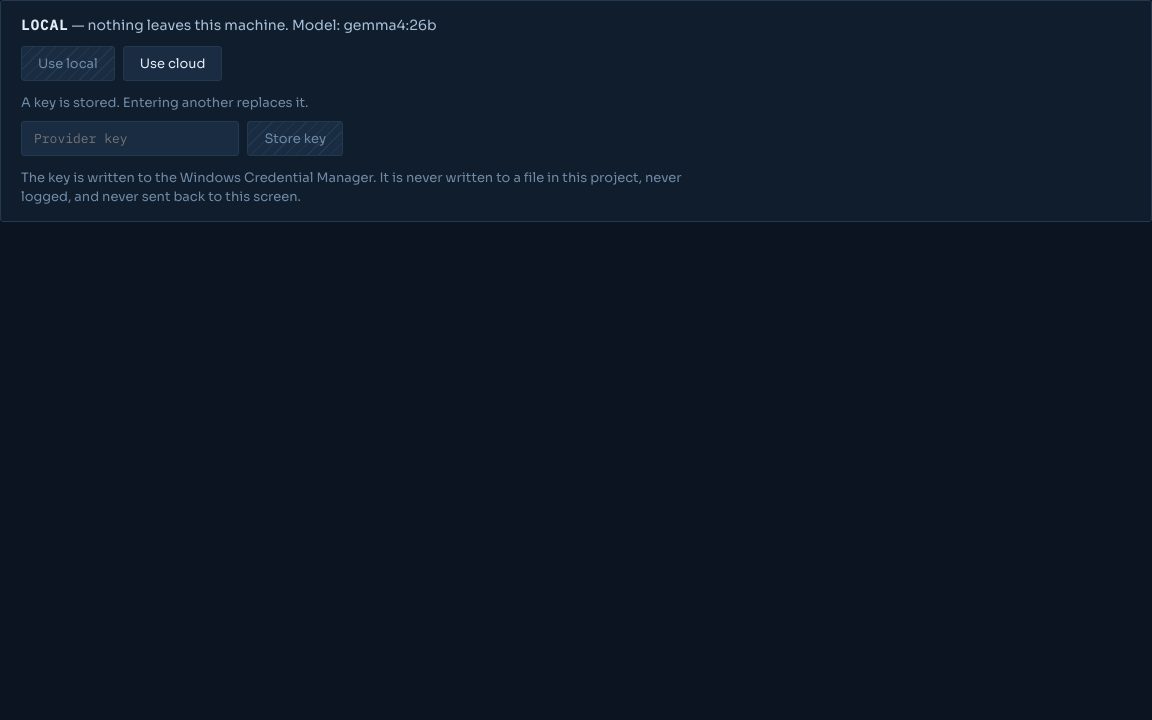
Test case: moving to cloud › says the vault is what leaves, not just 'data'
This screenshot has width=1152, height=720.
Click the button "Use cloud" at (173, 64), box [123,46,222,81]
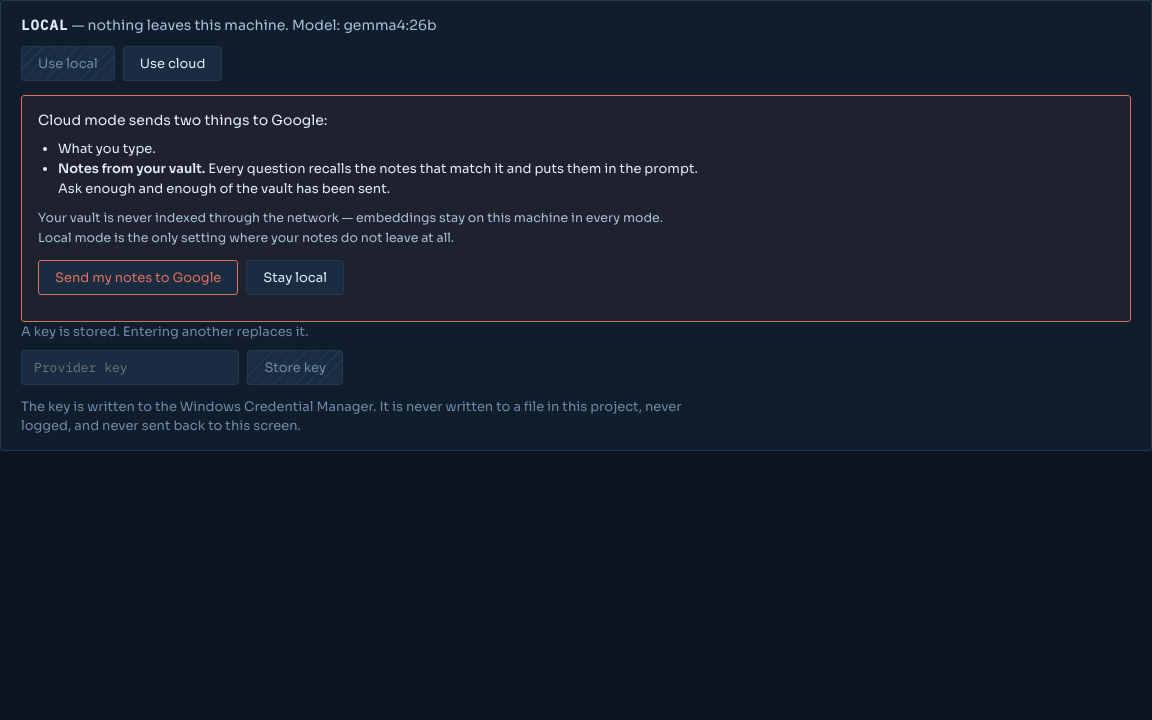
Now the text "Notes from your vault." is shown, box [58,160,205,177]
